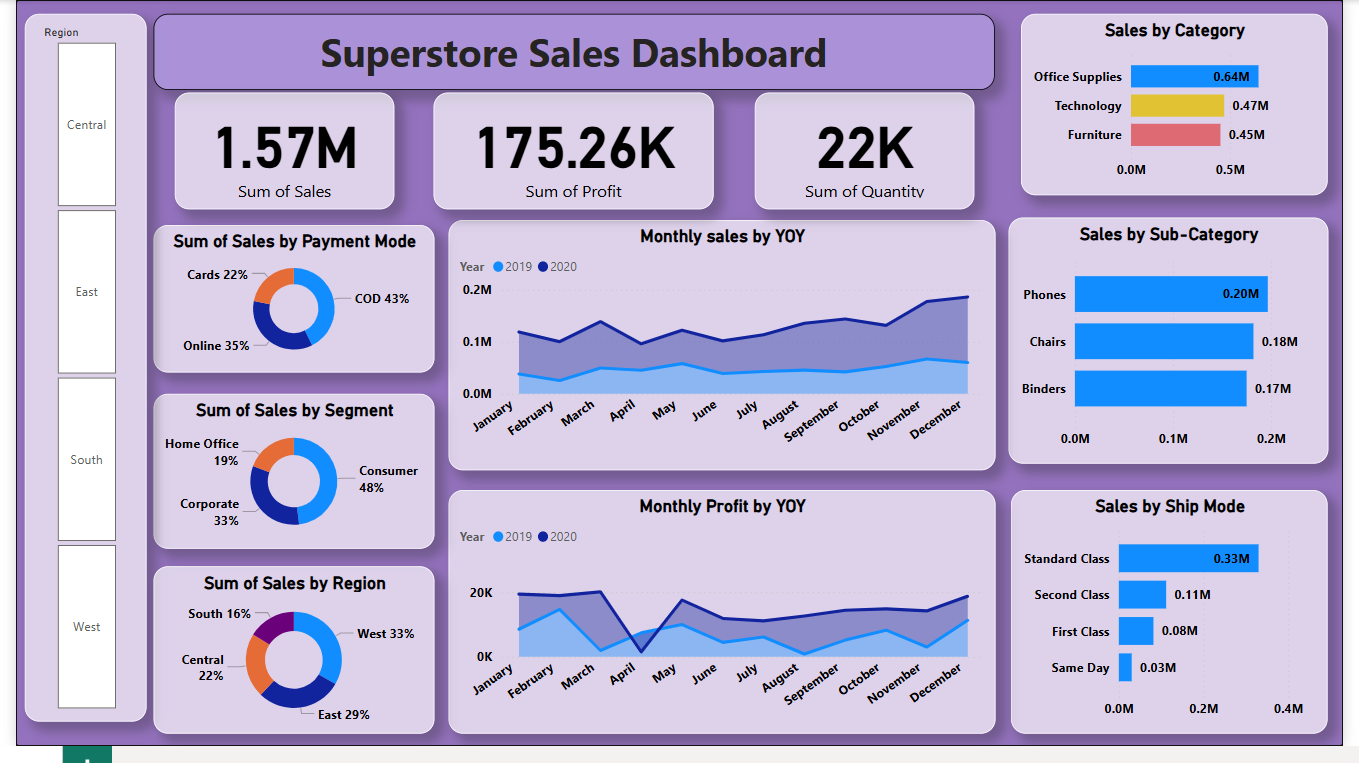

The dashboard page shown, as its layout file describes it:
{"tool":"powerbi","page":{"name":"Page 1","canvas":[1280,720],"ordinal":0},"visuals":[{"type":"clusteredBarChart","title":"Sales by Category","fields":{"Category":["SuperStore_Cleaned_Dates.Category"],"Y":["Sum(SuperStore_Cleaned_Dates.Sales)"]},"box":[970.5,12.7,295.7,175.4],"z":0},{"type":"clusteredBarChart","title":"Sales by Ship Mode","fields":{"Y":["Sum(SuperStore_Cleaned_Dates.Sales)"],"Category":["SuperStore_Cleaned_Dates.Ship Mode"]},"box":[960.6,472.5,305.6,234.8],"z":1000},{"type":"clusteredBarChart","title":"Sales by Sub-Category","fields":{"Y":["Sum(SuperStore_Cleaned_Dates.Sales)"],"Category":["SuperStore_Cleaned_Dates.Sub-Category"]},"box":[957.7,209.4,308.4,237.7],"z":2000},{"type":"stackedAreaChart","title":"Monthly sales by YOY","fields":{"Y":["Sum(SuperStore_Cleaned_Dates.Sales)"],"Series":["SuperStore_Cleaned_Dates.Order Date.Variation.Date Hierarchy.Year"],"Category":["SuperStore_Cleaned_Dates.Order Date.Variation.Date Hierarchy.Month","SuperStore_Cleaned_Dates.Order Date.Variation.Date Hierarchy.Day"]},"box":[417.3,212.2,527.7,241.9],"z":3000},{"type":"stackedAreaChart","title":"Monthly Profit by YOY","fields":{"Series":["SuperStore_Cleaned_Dates.Order Date.Variation.Date Hierarchy.Year"],"Category":["SuperStore_Cleaned_Dates.Order Date.Variation.Date Hierarchy.Month","SuperStore_Cleaned_Dates.Order Date.Variation.Date Hierarchy.Day"],"Y":["Sum(SuperStore_Cleaned_Dates.Profit)"]},"box":[417.3,472.5,527.7,234.8],"z":4000},{"type":"donutChart","fields":{"Y":["Sum(SuperStore_Cleaned_Dates.Sales)"],"Category":["SuperStore_Cleaned_Dates.Segment"]},"box":[132.7,380,271.4,149.6],"z":5000},{"type":"donutChart","fields":{"Y":["Sum(SuperStore_Cleaned_Dates.Sales)"],"Category":["SuperStore_Cleaned_Dates.Payment Mode"]},"box":[132.7,217.2,271.4,142.4],"z":6000},{"type":"slicer","fields":{"Values":["SuperStore_Cleaned_Dates.Region"]},"box":[8.5,12.7,117.4,683.3],"z":7000},{"type":"textbox","box":[133,12.7,812,73.6],"z":8000},{"type":"card","fields":{"Values":["Sum(SuperStore_Cleaned_Dates.Sales)"]},"box":[152.8,89.1,212.2,113.2],"z":9000},{"type":"card","fields":{"Values":["Sum(SuperStore_Cleaned_Dates.Quantity)"]},"box":[713,89.1,212.2,113.2],"z":10000},{"type":"card","fields":{"Values":["Sum(SuperStore_Cleaned_Dates.Profit)"]},"box":[403.2,89.1,270.2,113.2],"z":11000},{"type":"donutChart","fields":{"Y":["Sum(SuperStore_Cleaned_Dates.Sales)"],"Category":["SuperStore_Cleaned_Dates.Region"]},"box":[132.7,546.5,271.4,161.7],"z":11001}]}

Visuals, with their boxes in screenshot pixels (x1, y1, x2, y2), scaled from the page's 1280x720 canvas onto the 1359x763 screenshot:
"Sales by Category" clusteredBarChart: region(1030, 13, 1344, 199)
"Sales by Ship Mode" clusteredBarChart: region(1020, 501, 1344, 750)
"Sales by Sub-Category" clusteredBarChart: region(1017, 222, 1344, 474)
"Monthly sales by YOY" stackedAreaChart: region(443, 225, 1003, 481)
"Monthly Profit by YOY" stackedAreaChart: region(443, 501, 1003, 750)
donutChart - Sum(SuperStore_Cleaned_Dates.Sales) x SuperStore_Cleaned_Dates.Segment: region(141, 403, 429, 561)
donutChart - Sum(SuperStore_Cleaned_Dates.Sales) x SuperStore_Cleaned_Dates.Payment Mode: region(141, 230, 429, 381)
slicer - SuperStore_Cleaned_Dates.Region: region(9, 13, 134, 738)
textbox: region(141, 13, 1003, 91)
card - Sum(SuperStore_Cleaned_Dates.Sales): region(162, 94, 388, 214)
card - Sum(SuperStore_Cleaned_Dates.Quantity): region(757, 94, 982, 214)
card - Sum(SuperStore_Cleaned_Dates.Profit): region(428, 94, 715, 214)
donutChart - Sum(SuperStore_Cleaned_Dates.Sales) x SuperStore_Cleaned_Dates.Region: region(141, 579, 429, 750)
